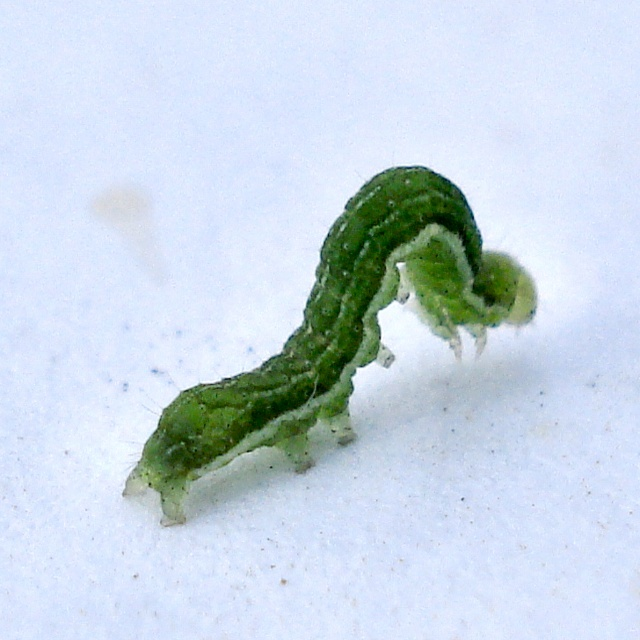Caterpillar: (115, 149, 541, 519)
